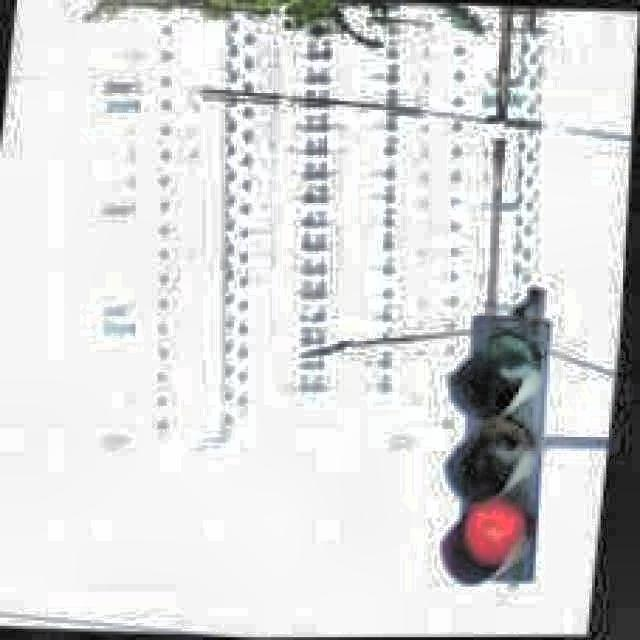red: (442, 315, 548, 589)
